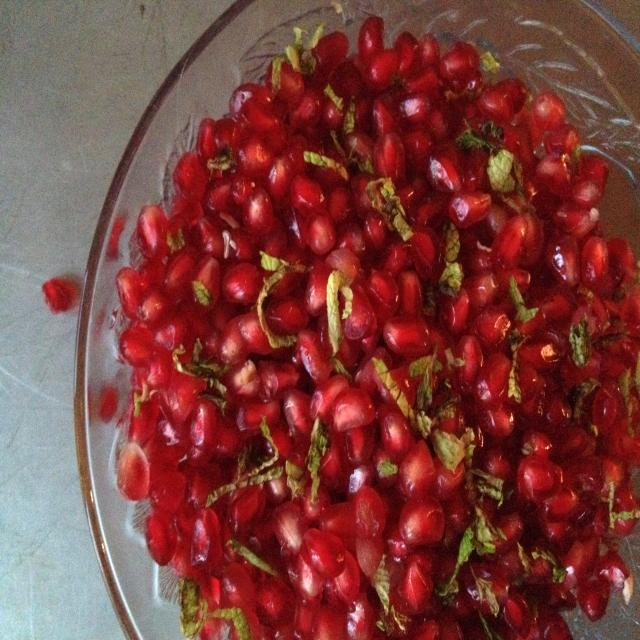Pomegranate: (116, 17, 640, 638)
